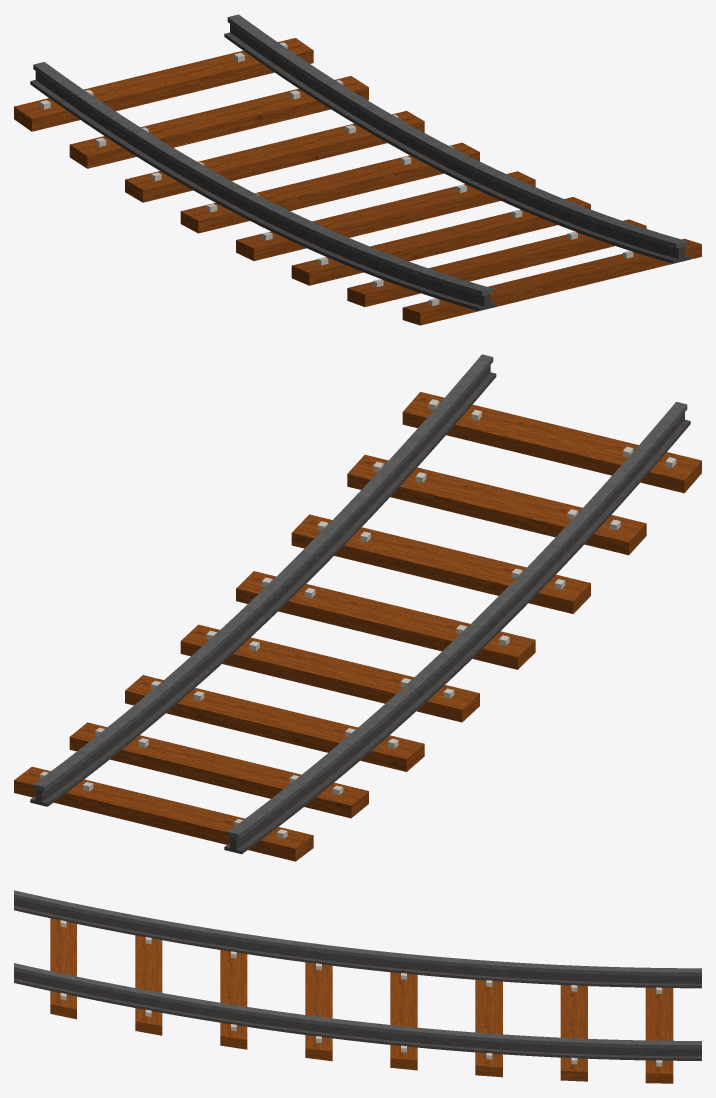
The model's file is rail_slope_entry.gltf.
3 renders of one model, top to bottom at view 1: azimuth 30°, elevation 25°; view 2: azimuth 150°, elevation 25°; view 3: azimuth 270°, elevation 25°, orthographic. The views are drawn at different scales.
Bounding box in the file's own units: 2.9 × 1.31 × 8.
Materials: 4 (3 with a texture image).
